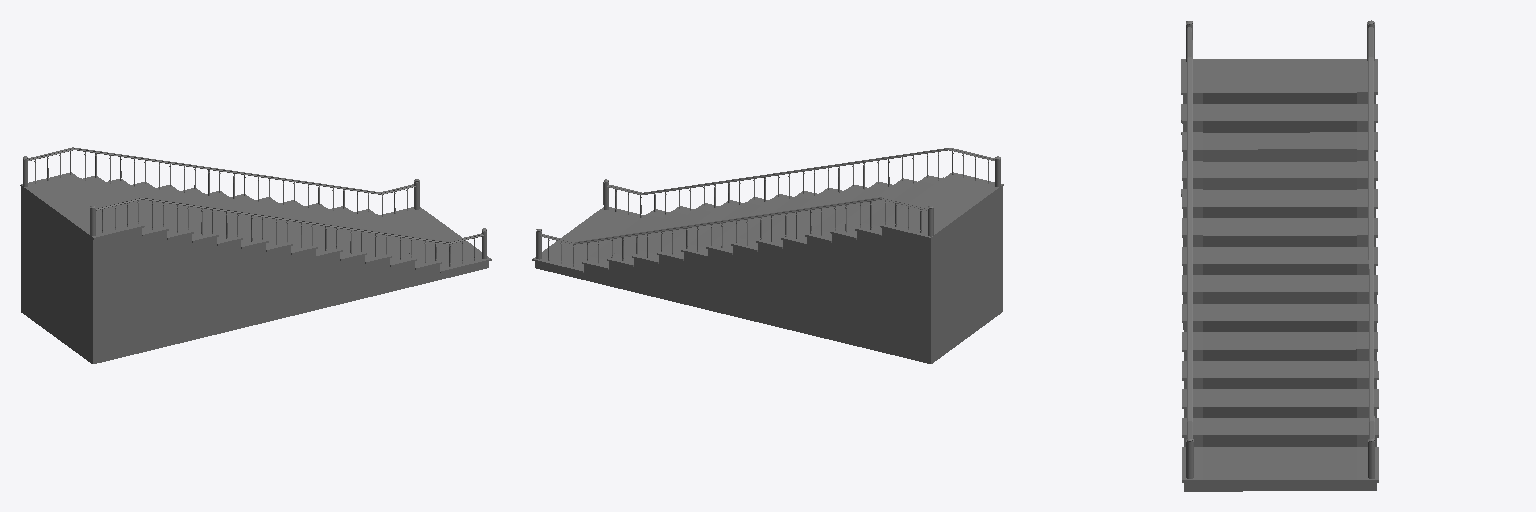
robot.urdf — stairs_terrain:
<?xml version="1.0" ?>
<robot name="stairs_terrain">
  <link name="stairs_terrain">
	  <contact>
      <lateral_friction value="1.0"/>
    </contact>
    <inertial>
      <origin rpy="0 0 0" xyz="0 0 0"/>
       <mass value=".0"/>
       <inertia ixx="0" ixy="0" ixz="0" iyy="0" iyz="0" izz="0"/>
    </inertial>
    <visual>
      <origin rpy="1.57 0 -1.57" xyz="1. 0 0"/>
      <geometry>
				<mesh filename="meshes/stairs.obj" scale="0.1 0.07 0.1"/>
      </geometry>
       <material name="white">
        <color rgba="0.5 0.5 0.5 1.0"/>
      </material>
    </visual>
    <collision>
      <origin rpy="1.57 0 -1.57" xyz="1. 0 0"/>
      <geometry>
				<mesh filename="meshes/stairs.obj" scale="0.1 0.07 0.1"/>
      </geometry>
    </collision>
  </link>
</robot>

--- Facts derived from the render (not from the file) ---
Views: 3 orthographic renders of the robot side by side, from view 1: azimuth 30°, elevation 25°; view 2: azimuth 150°, elevation 25°; view 3: azimuth 270°, elevation 25°.
Model stairs_terrain with 1 links and 0 joints (none), rooted at stairs_terrain, posed all joints at 0.
Visible links, largest first — view 1: stairs_terrain; view 2: stairs_terrain; view 3: stairs_terrain.
Link boxes in pixels (bbox=[...]): stairs_terrain: bbox=[20, 147, 491, 363]; stairs_terrain: bbox=[532, 148, 1003, 363]; stairs_terrain: bbox=[1181, 20, 1378, 491].
Size in the robot's own frame: 3.21 by 1.02 by 1.21 metres.
Meshes: 1 distinct files referenced, 1 mesh visuals loaded (1 OBJ).